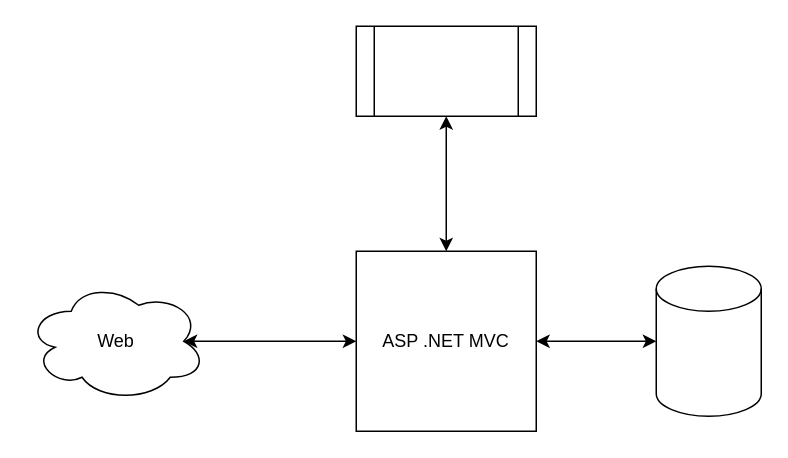
Some shapes in this 788 by 458 pixel diagram are drawn without their labels. The box of each missing label's shape, as (x1, y1, x2, y2) in pixels:
Blob Storage: (355, 25, 536, 116)
Database: (655, 265, 761, 416)
